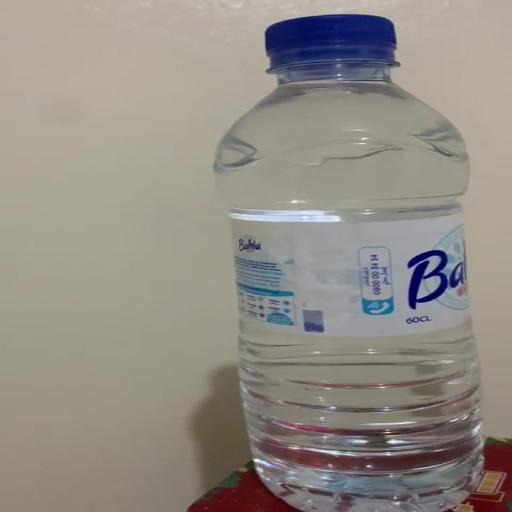bouteille conformite: (176, 5, 512, 512)
